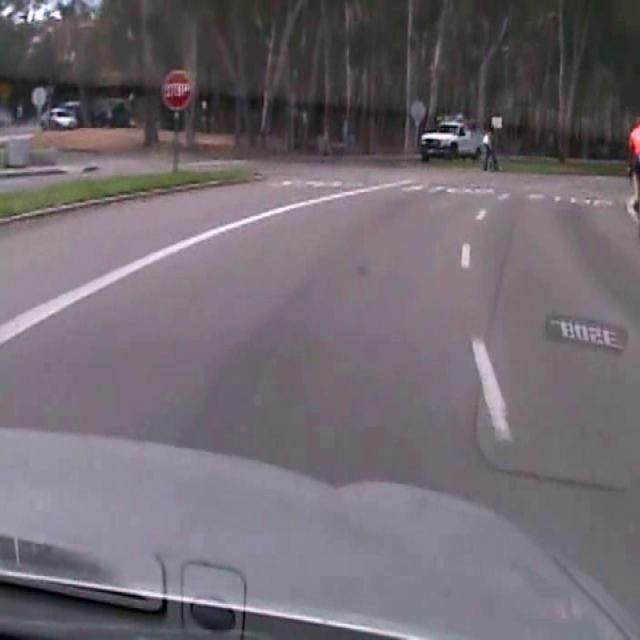stop: (161, 68, 190, 111)
